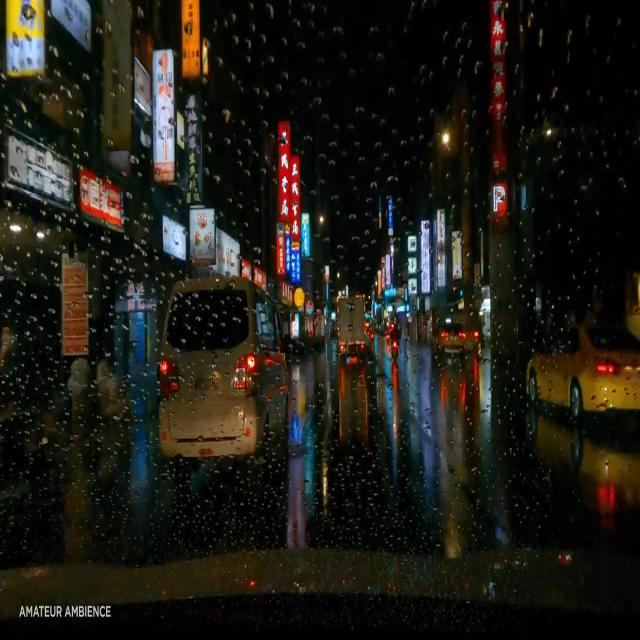Car: (158, 281, 286, 471), (523, 312, 639, 423), (431, 316, 466, 358)
